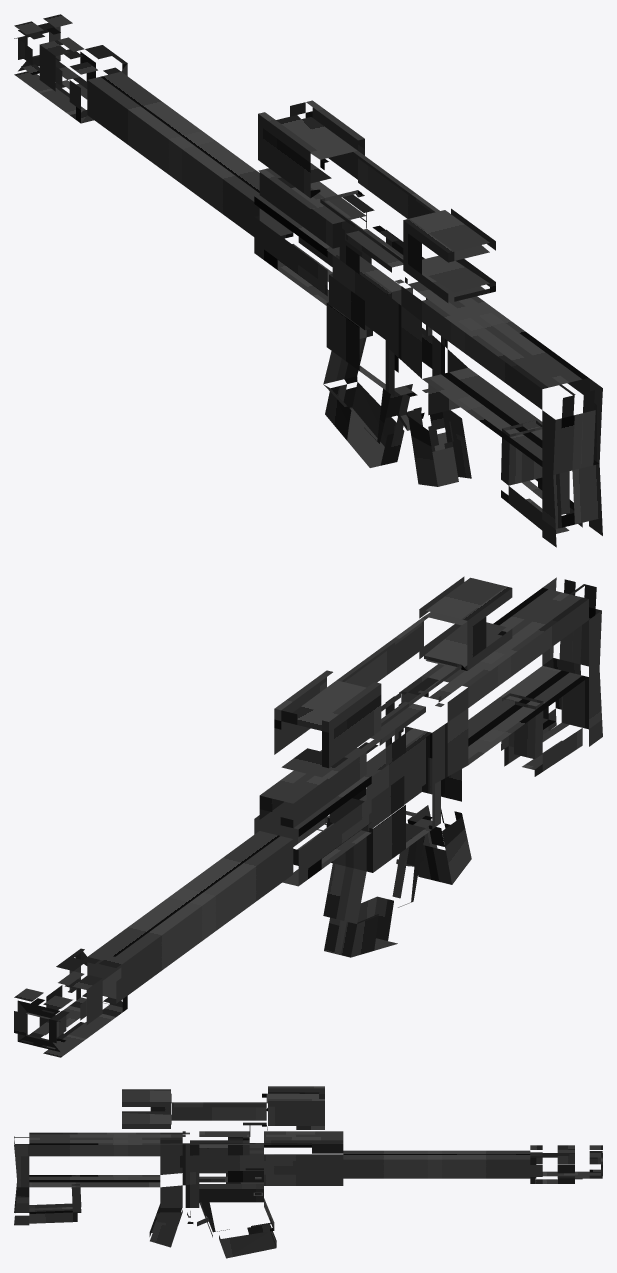
The model's file is barrett.obj.
3 views of the same model, one above another, from view 1: azimuth 30°, elevation 25°; view 2: azimuth 150°, elevation 25°; view 3: azimuth 270°, elevation 25° (orthographic). The views are drawn at different scales.
Parts seen in each view (by area): view 1: Sniper_Cube.002; view 2: Sniper_Cube.002; view 3: Sniper_Cube.002.
Boxes of the visible parts, left/top/right/bottom form: Sniper_Cube.002: left=14, top=14, right=602, bottom=547; Sniper_Cube.002: left=14, top=576, right=602, bottom=1057; Sniper_Cube.002: left=14, top=1086, right=602, bottom=1258.
Bounding box in the file's own units: 1.44 × 5.63 × 18.85.
